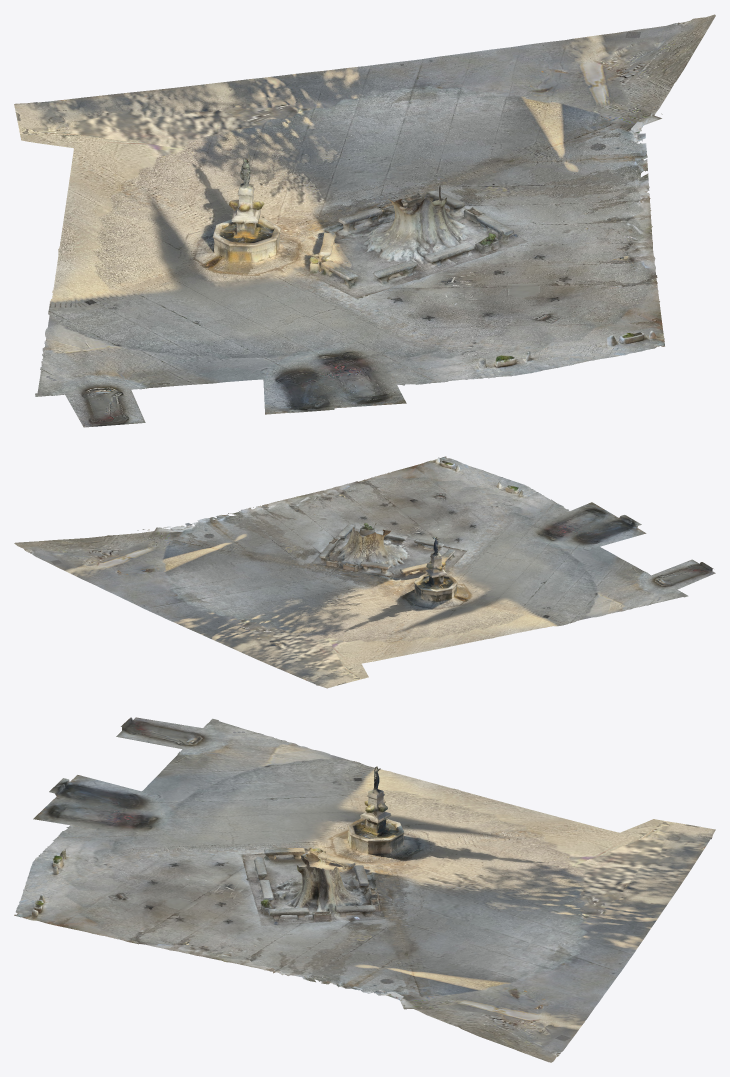
File: medium.glb
The picture shows the model from 3 angles, top to bottom: view 1: azimuth 30°, elevation 25°; view 2: azimuth 150°, elevation 25°; view 3: azimuth 270°, elevation 25°; orthographic projection. The views are drawn at different scales.
Visible parts, largest first — view 1: medium.006; view 2: medium.006; view 3: medium.006.
Boxes of the visible parts, x1,y1,x2,y2 form: medium.006: (14,14,715,427); medium.006: (14,456,715,688); medium.006: (14,717,715,1062).
Size of the model in its own units: 41.86 by 4.46 by 34.57.
1 material, 1 textured.
